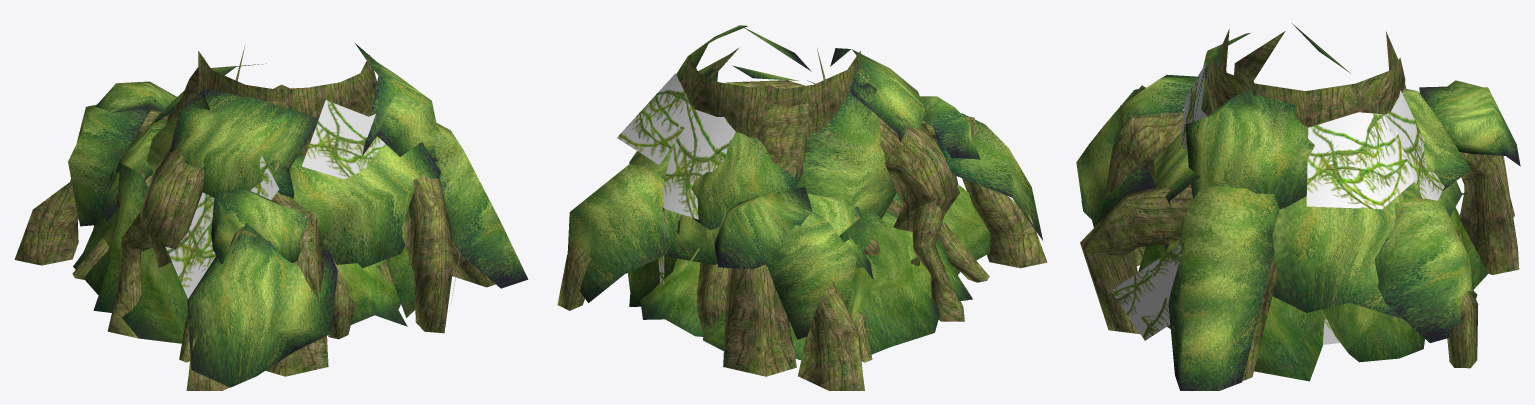
File: n_bigtree01.glb
3 renders of one model, left to right at view 1: azimuth 30°, elevation 25°; view 2: azimuth 150°, elevation 25°; view 3: azimuth 270°, elevation 25°, orthographic. The views are drawn at different scales.
Visible parts, largest first — view 1: n_bigtree01; view 2: n_bigtree01; view 3: n_bigtree01.
Boxes of the visible parts, x1,y1,x2,y2 form: n_bigtree01: [14, 43, 528, 390]; n_bigtree01: [557, 25, 1047, 390]; n_bigtree01: [1076, 23, 1520, 390].
Size of the model in its own units: 11.67 by 7.42 by 11.41.
4 materials, 4 textured.
